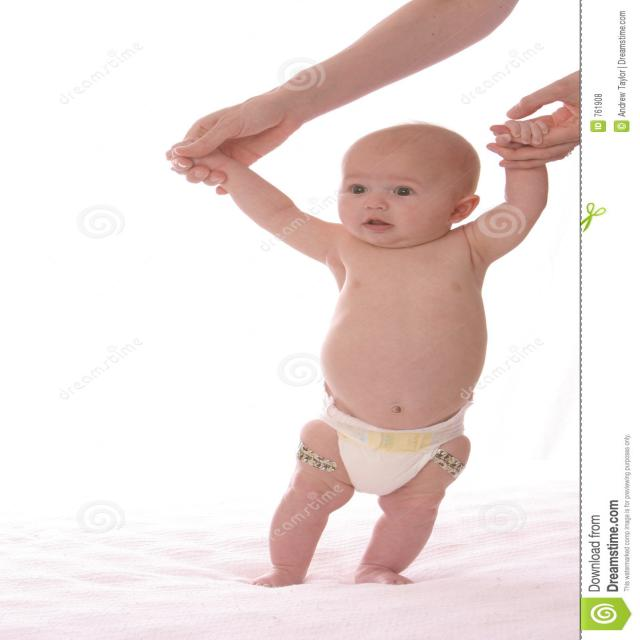child: (130, 91, 552, 605)
